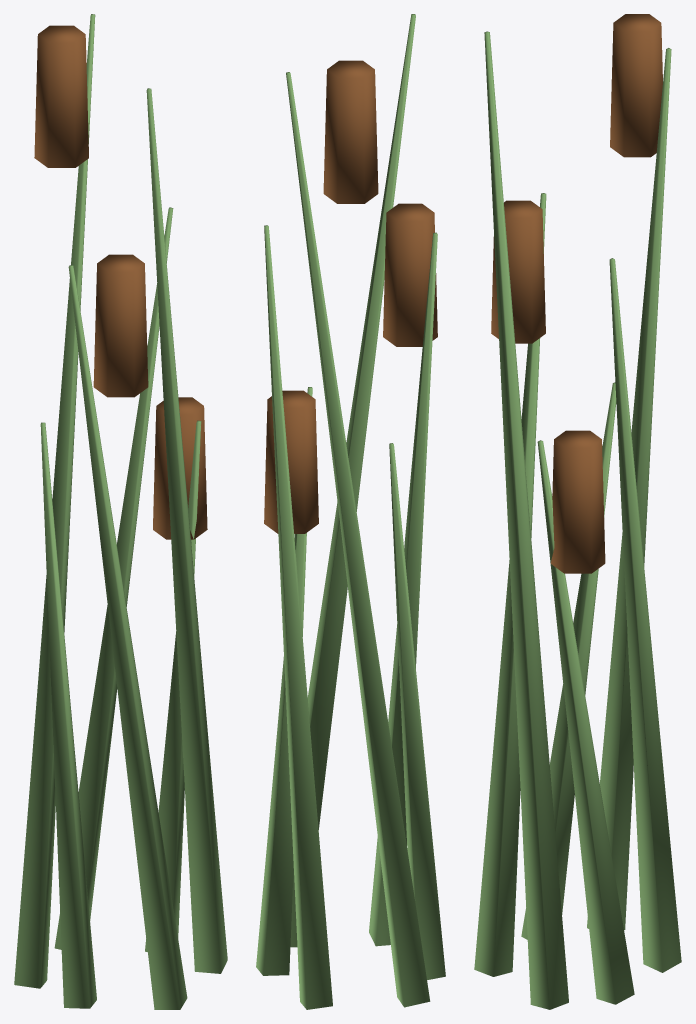
File: xy_nat_reed.glb
3 views of the same model, side by side, from view 1: azimuth 30°, elevation 25°; view 2: azimuth 150°, elevation 25°; view 3: azimuth 270°, elevation 25° (orthographic).
Visible parts, largest first — view 1: xy_nat_reed; view 2: xy_nat_reed; view 3: xy_nat_reed.
Part boxes in pixels (x1,y1,x2,y2): xy_nat_reed: (14, 14, 227, 1009); xy_nat_reed: (256, 14, 445, 1009); xy_nat_reed: (474, 14, 681, 1009).
Size of the model in its own units: 0.3138 by 1.5 by 0.3024.
